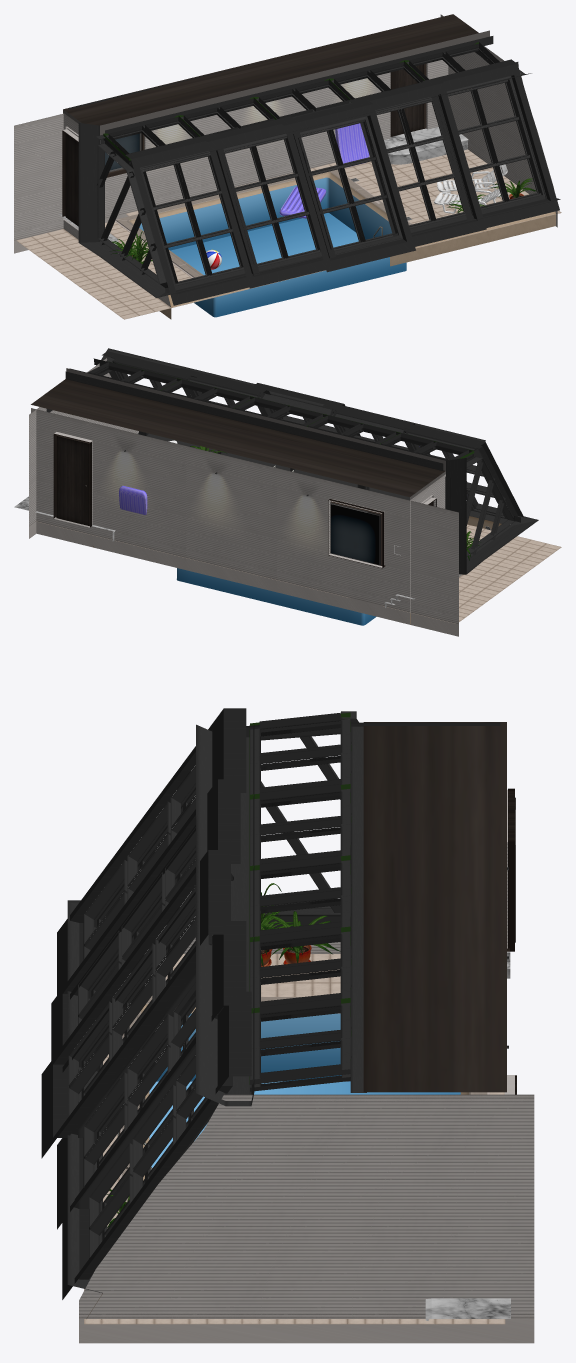
Rendered from swimpool.obj.
3 renders of one model, top to bottom at view 1: azimuth 30°, elevation 25°; view 2: azimuth 150°, elevation 25°; view 3: azimuth 270°, elevation 25°, orthographic. The views are drawn at different scales.
Visible parts, largest first — view 1: 000412-vb0=9f50b06d-vs=0b76a35c80823274-ps=8936fc882dfd54d6.010; view 2: 000412-vb0=9f50b06d-vs=0b76a35c80823274-ps=8936fc882dfd54d6.010; view 3: 000412-vb0=9f50b06d-vs=0b76a35c80823274-ps=8936fc882dfd54d6.010.
Boxes of the visible parts, <box> form: 000412-vb0=9f50b06d-vs=0b76a35c80823274-ps=8936fc882dfd54d6.010: <box>14,14,561,319</box>; 000412-vb0=9f50b06d-vs=0b76a35c80823274-ps=8936fc882dfd54d6.010: <box>14,348,561,636</box>; 000412-vb0=9f50b06d-vs=0b76a35c80823274-ps=8936fc882dfd54d6.010: <box>41,708,534,1343</box>.
Size of the model in its own units: 13.14 by 4.81 by 6.32.
Materials: 1 (1 with a texture image).
